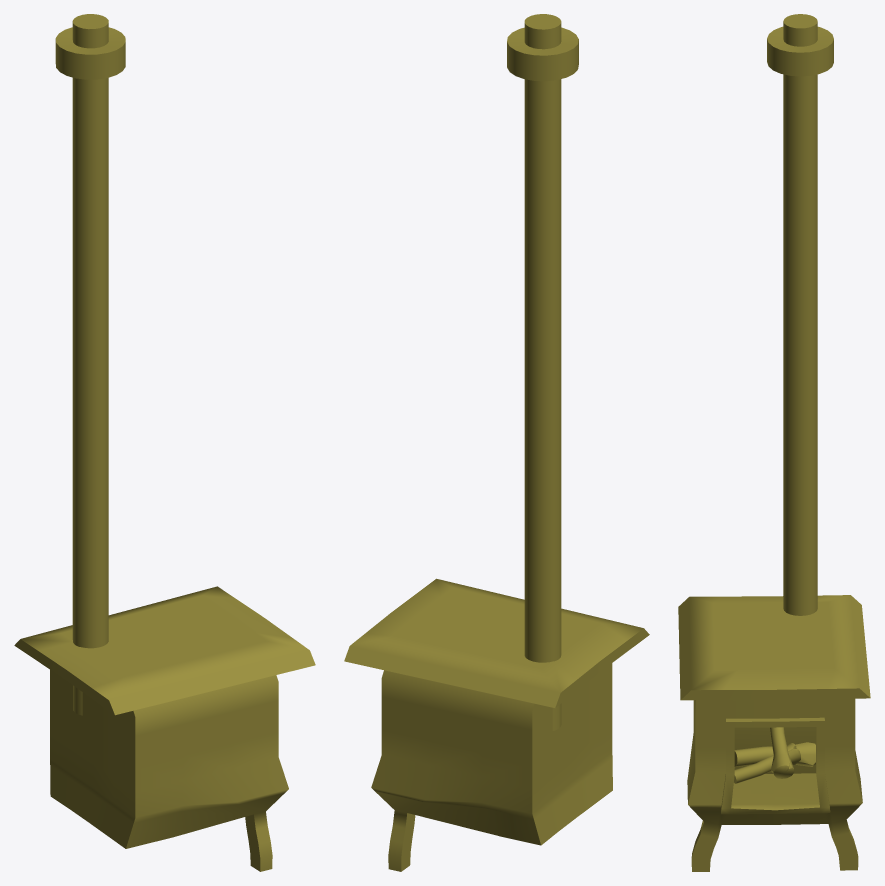
Rendered from stove_uv_casie.fbx.
The picture shows the model from 3 angles, left to right: view 1: azimuth 30°, elevation 25°; view 2: azimuth 150°, elevation 25°; view 3: azimuth 270°, elevation 25°; orthographic projection. The views are drawn at different scales.
Parts seen in each view (by area): view 1: stove_uv_casie; view 2: stove_uv_casie; view 3: stove_uv_casie.
Part boxes in pixels (x1,y1,x2,y2): stove_uv_casie: (14, 14, 315, 871); stove_uv_casie: (344, 14, 649, 871); stove_uv_casie: (678, 14, 870, 871).
Bounding box in the file's own units: 1.82 × 7.05 × 1.55.
